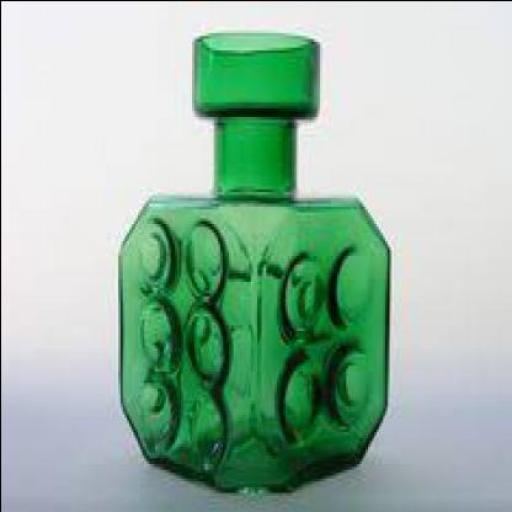glass: (112, 26, 386, 488)
